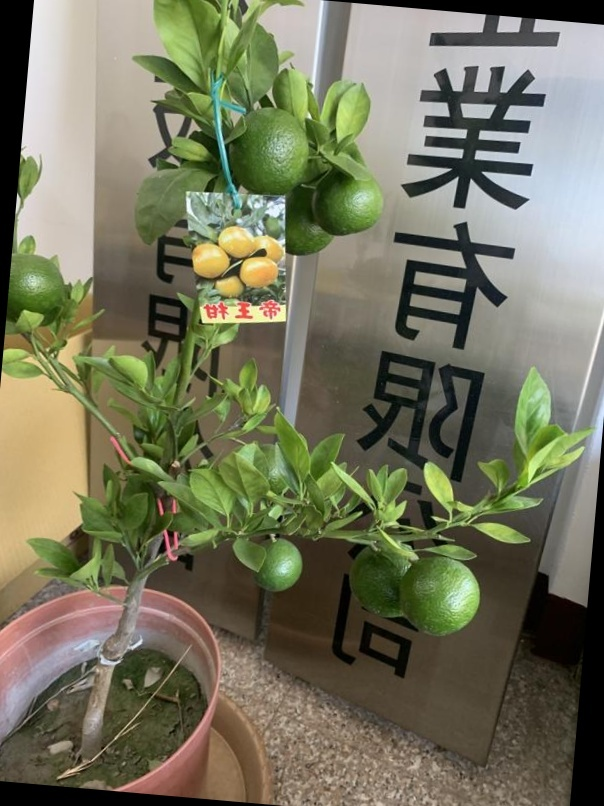Tangerine: (233, 106, 313, 196), (401, 552, 479, 638), (349, 545, 421, 623), (315, 163, 389, 238), (7, 253, 66, 329), (252, 536, 305, 591)
